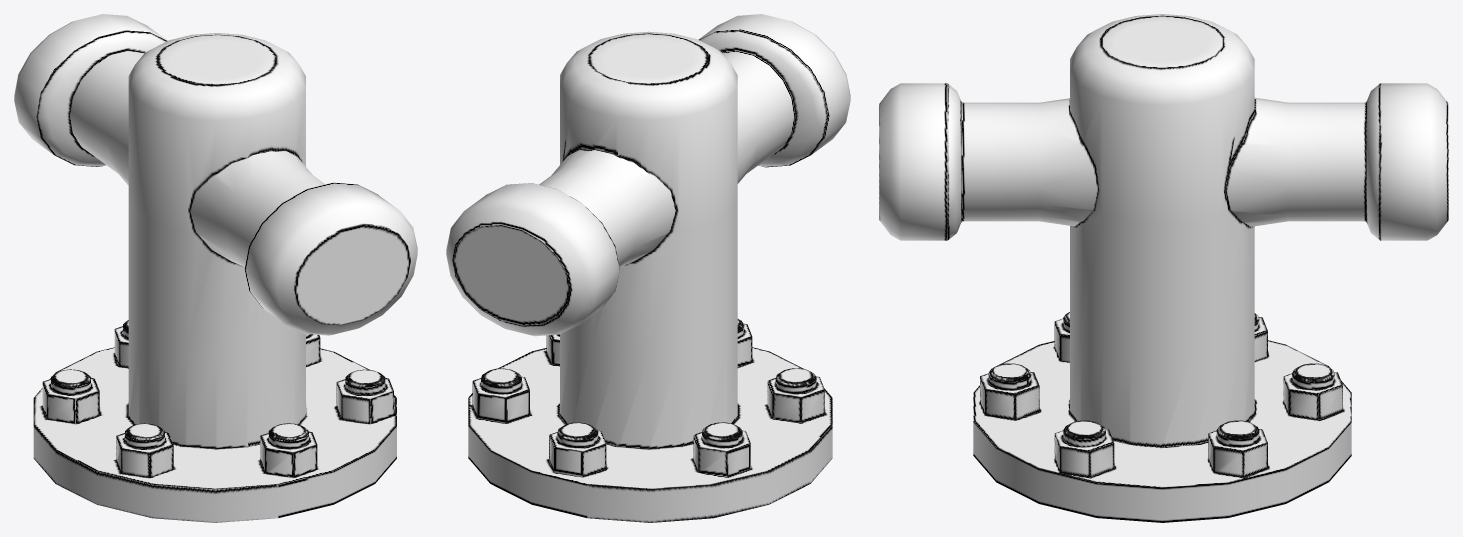
The model's file is bollard.FBX.
3 renders of one model, left to right at view 1: azimuth 30°, elevation 25°; view 2: azimuth 150°, elevation 25°; view 3: azimuth 270°, elevation 25°, orthographic. The views are drawn at different scales.
Parts seen in each view (by area): view 1: Cylinder003; view 2: Cylinder003; view 3: Cylinder003.
Part boxes in pixels (left/top/right/bottom): Cylinder003: left=14, top=14, right=417, bottom=522; Cylinder003: left=446, top=14, right=850, bottom=522; Cylinder003: left=879, top=14, right=1448, bottom=522.
Size of the model in its own units: 7.89 by 9.08 by 11.69.
